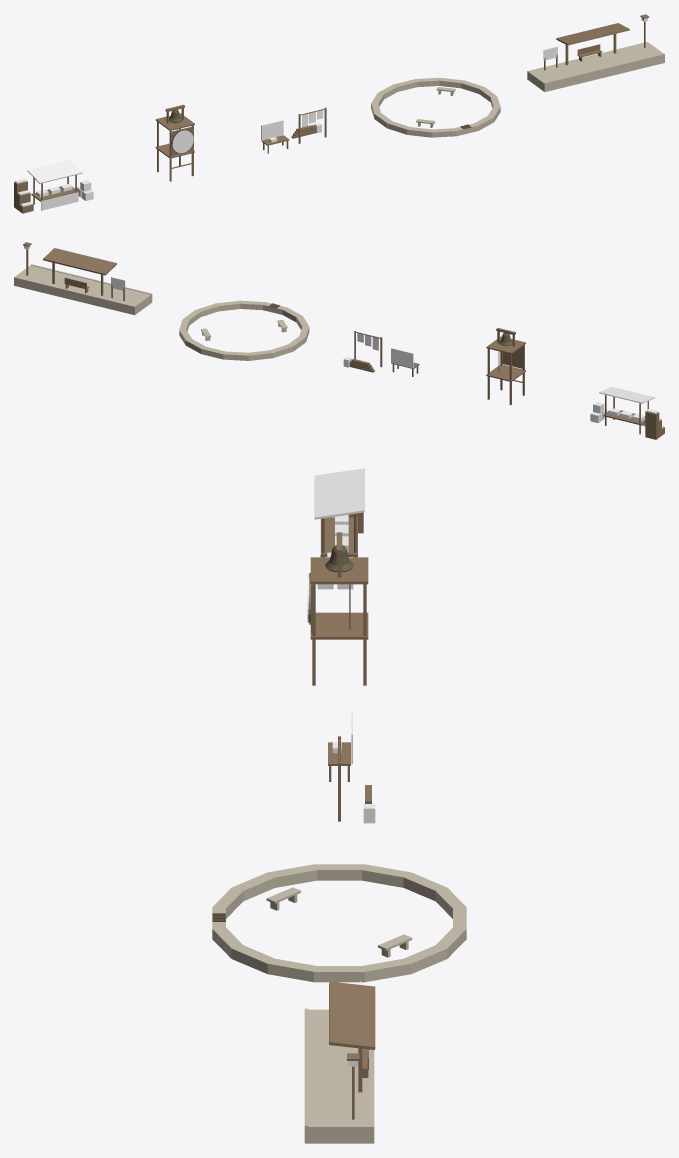
File: aeolia-island-modules.glb
3 renders of one model, top to bottom at view 1: azimuth 30°, elevation 25°; view 2: azimuth 150°, elevation 25°; view 3: azimuth 270°, elevation 25°, orthographic. The views are drawn at different scales.
Visible parts, largest first — view 1: Cloud stop module, Water garden module, Market module, Bell tower module, Windmill module; view 2: Cloud stop module, Water garden module, Market module, Bell tower module, Windmill module; view 3: Cloud stop module, Water garden module, Bell tower module, Market module, Windmill module.
Part boxes in pixels (x1=…): Cloud stop module: x1=527, y1=14, x2=664, y2=91; Water garden module: x1=371, y1=77, x2=500, y2=137; Market module: x1=14, y1=159, x2=93, y2=213; Bell tower module: x1=155, y1=104, x2=194, y2=181; Windmill module: x1=261, y1=107, x2=326, y2=153; Cloud stop module: x1=14, y1=242, x2=152, y2=315; Water garden module: x1=179, y1=300, x2=309, y2=360; Market module: x1=590, y1=386, x2=664, y2=439; Bell tower module: x1=486, y1=328, x2=525, y2=404; Windmill module: x1=343, y1=330, x2=419, y2=376; Cloud stop module: x1=304, y1=981, x2=375, y2=1143; Water garden module: x1=212, y1=864, x2=466, y2=982; Bell tower module: x1=307, y1=532, x2=368, y2=685; Market module: x1=314, y1=468, x2=364, y2=589; Windmill module: x1=328, y1=713, x2=375, y2=823.
Size of the model in its own units: 63.5 by 6.35 by 11.
